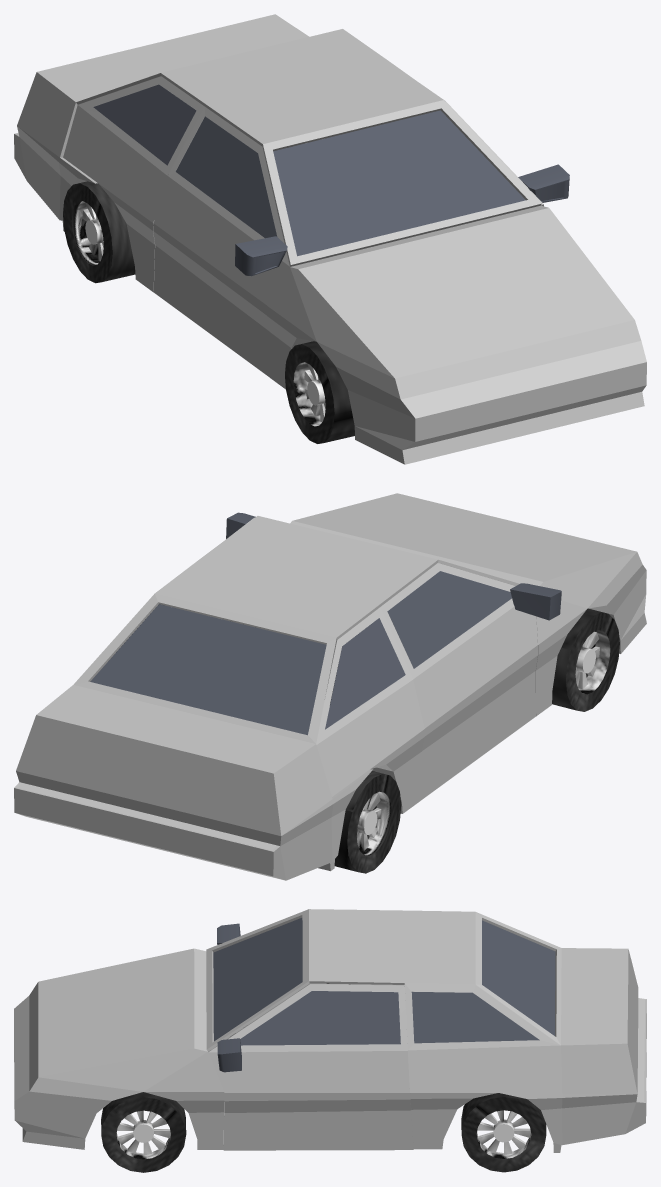
The model's file is DefinitiveCar.fbx.
The picture shows the model from 3 angles, top to bottom: view 1: azimuth 30°, elevation 25°; view 2: azimuth 150°, elevation 25°; view 3: azimuth 270°, elevation 25°; orthographic projection. The views are drawn at different scales.
Parts seen in each view (by area): view 1: Body.001, Ventanas.001, PuertaDrch.001, BR.001, FR.001, Retrovbisor.001; view 2: Body.001, PuertaDrch.001, Ventanas.001, FR.001, BR.001, Retrovbisor.001; view 3: Body.001, PuertaIzq.001, Ventanas.001, FL.001, BL.001, Retrovbisor.001.
Part boxes in pixels (x1,y1,x2,y2): Body.001: [14, 14, 646, 464]; Ventanas.001: [93, 84, 525, 256]; PuertaDrch.001: [153, 106, 289, 377]; BR.001: [63, 181, 135, 283]; FR.001: [285, 341, 354, 443]; Retrovbisor.001: [235, 164, 569, 276]; Body.001: [14, 493, 646, 880]; PuertaDrch.001: [380, 563, 537, 800]; Ventanas.001: [90, 604, 405, 735]; FR.001: [552, 608, 619, 711]; BR.001: [334, 771, 401, 873]; Retrovbisor.001: [226, 512, 561, 620]; Body.001: [14, 909, 646, 1152]; PuertaIzq.001: [208, 983, 413, 1150]; Ventanas.001: [213, 918, 555, 1043]; FL.001: [101, 1092, 186, 1172]; BL.001: [461, 1093, 546, 1172]; Retrovbisor.001: [217, 923, 241, 1072].
Size of the model in its own units: 331 by 204 by 685.
